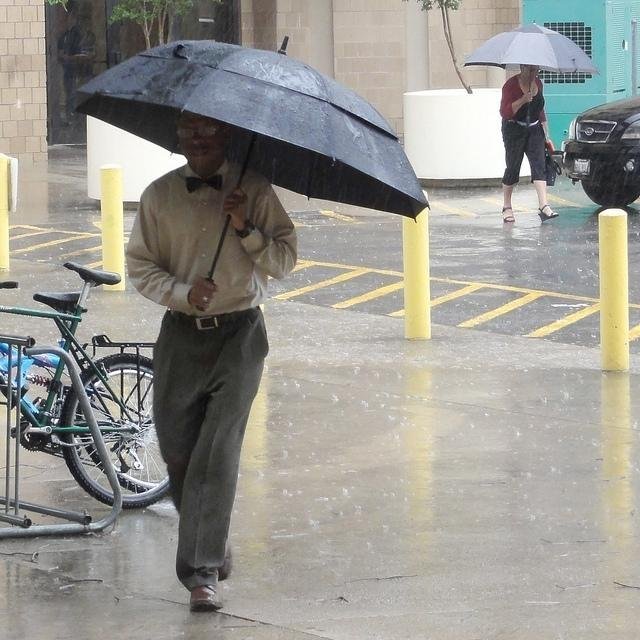bicycle: (0, 258, 172, 509), (5, 334, 65, 410)
car: (563, 98, 640, 210)
